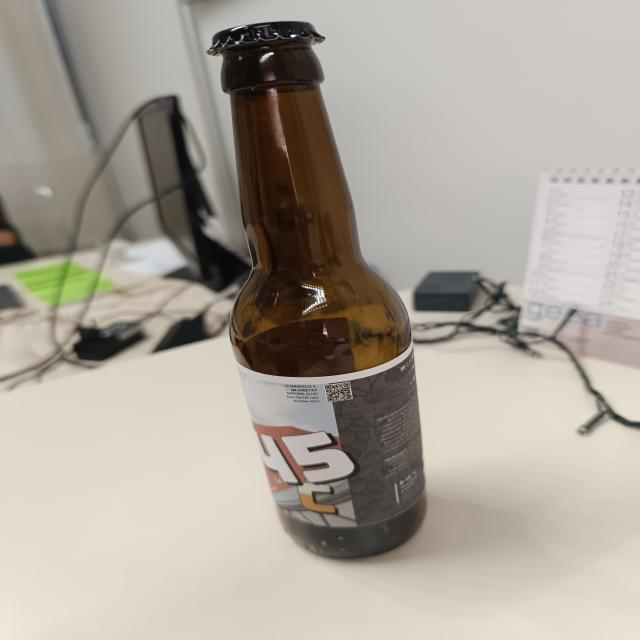Bottle: (204, 16, 430, 559)
Cap: (200, 19, 329, 59)
Label: (227, 354, 427, 526)
